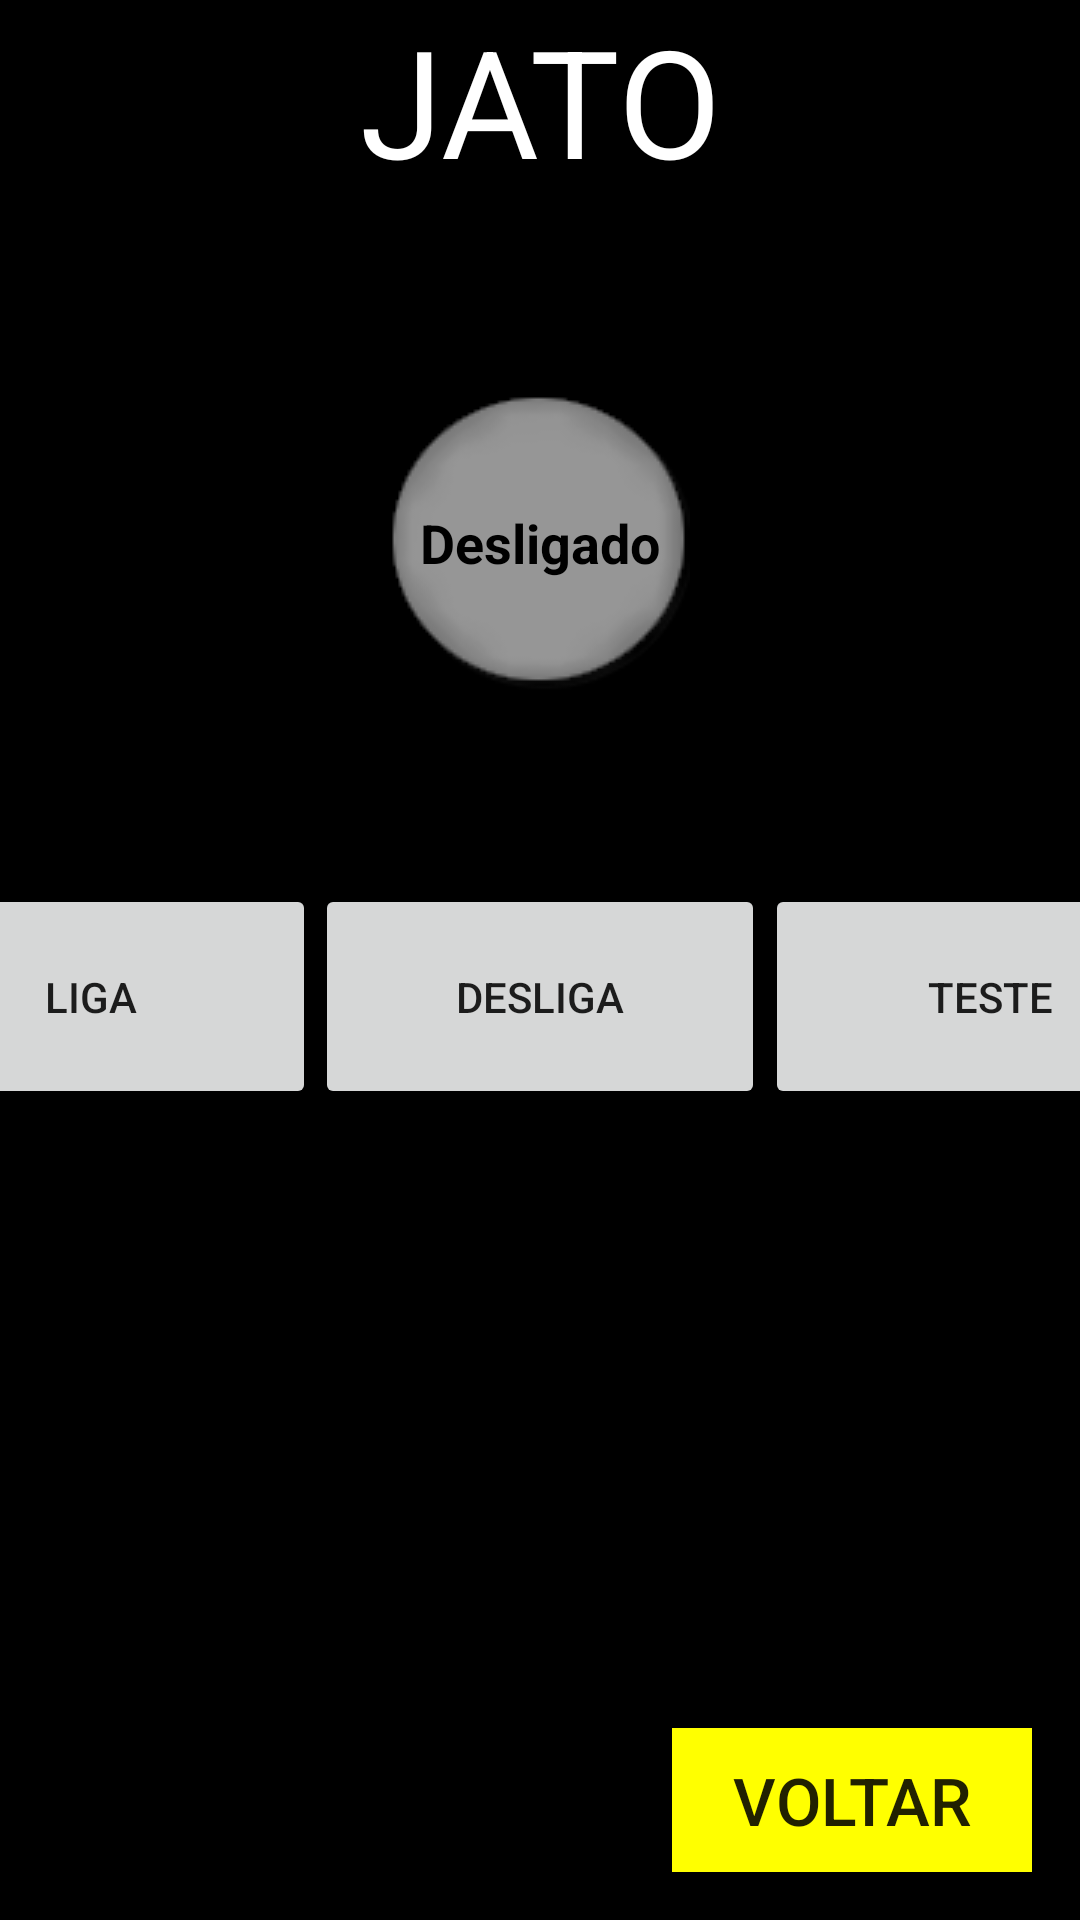

Named icons in this screenshot (1080 x 1920) and their centers, point (x, y):
led cinza: point (538, 539)
